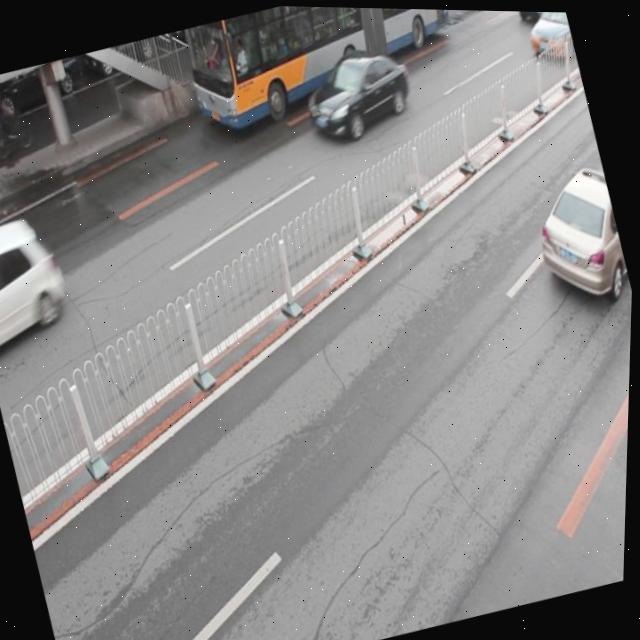car: (522, 158, 636, 308), (297, 35, 421, 149), (0, 212, 77, 361), (0, 53, 90, 127), (85, 34, 165, 79), (517, 9, 576, 61), (170, 13, 247, 48)
van: (178, 3, 469, 134)
